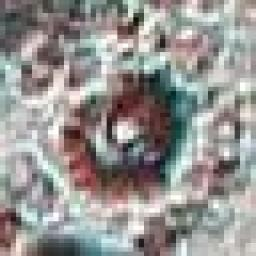crystals: (63, 68, 204, 201)
